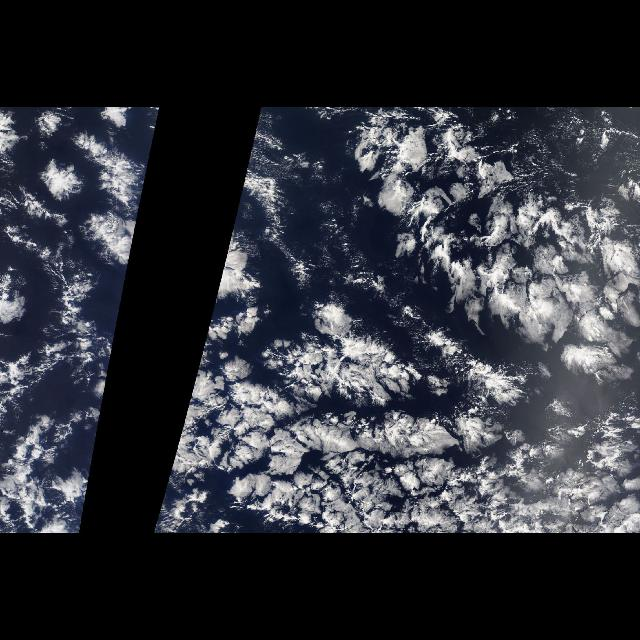Fish: (294, 108, 640, 396)
Flower: (154, 108, 638, 530), (0, 108, 160, 526)
